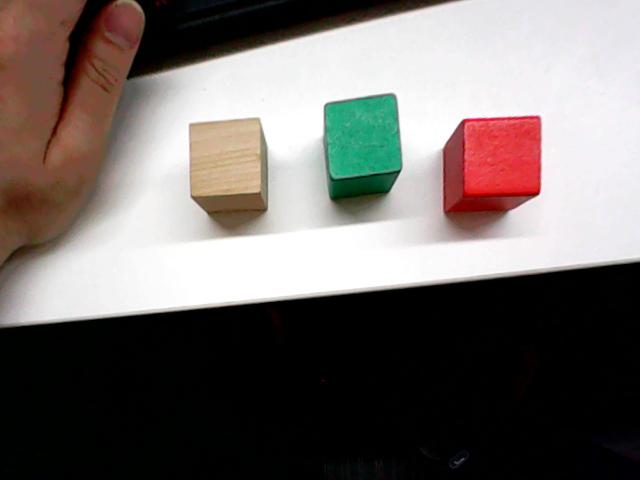green_box: (319, 89, 405, 201)
raw_box: (182, 113, 277, 218)
red_box: (439, 110, 545, 215)
